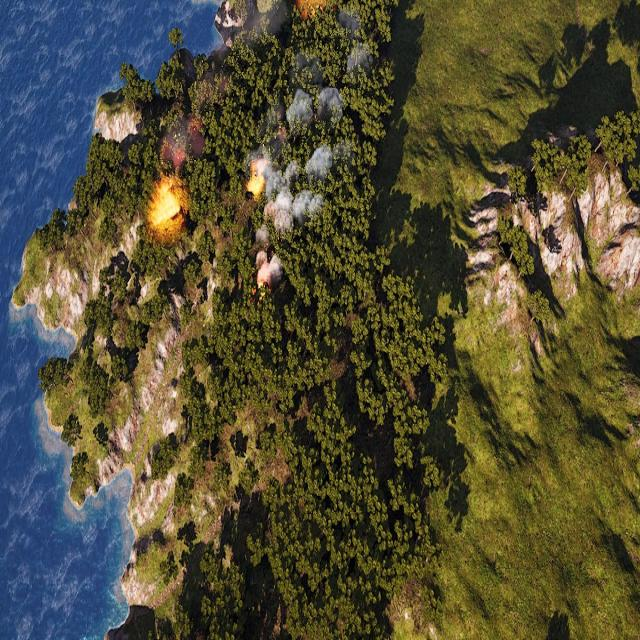fire: (152, 181, 182, 229), (247, 173, 265, 197)
smoke: (252, 63, 349, 290)
